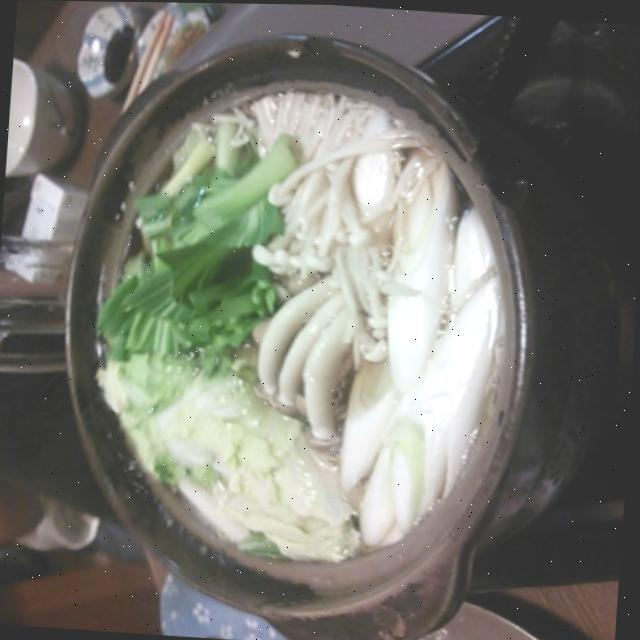豆腐料理: (43, 44, 550, 604)
